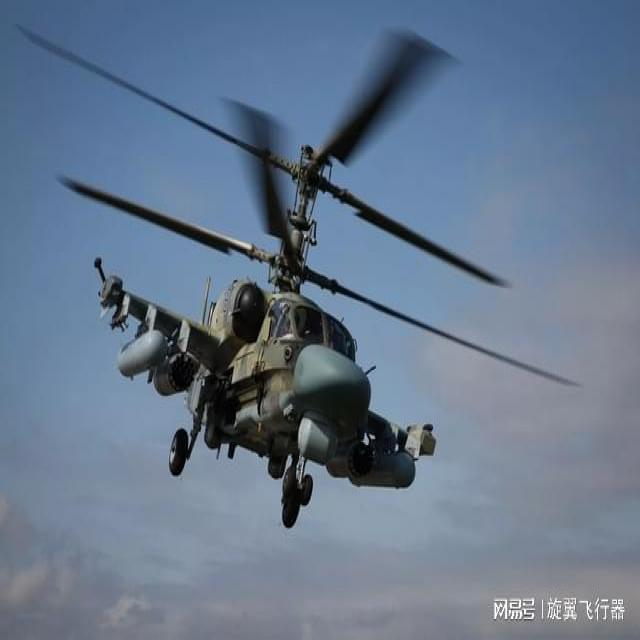MIL_HELO: (16, 12, 564, 568)
